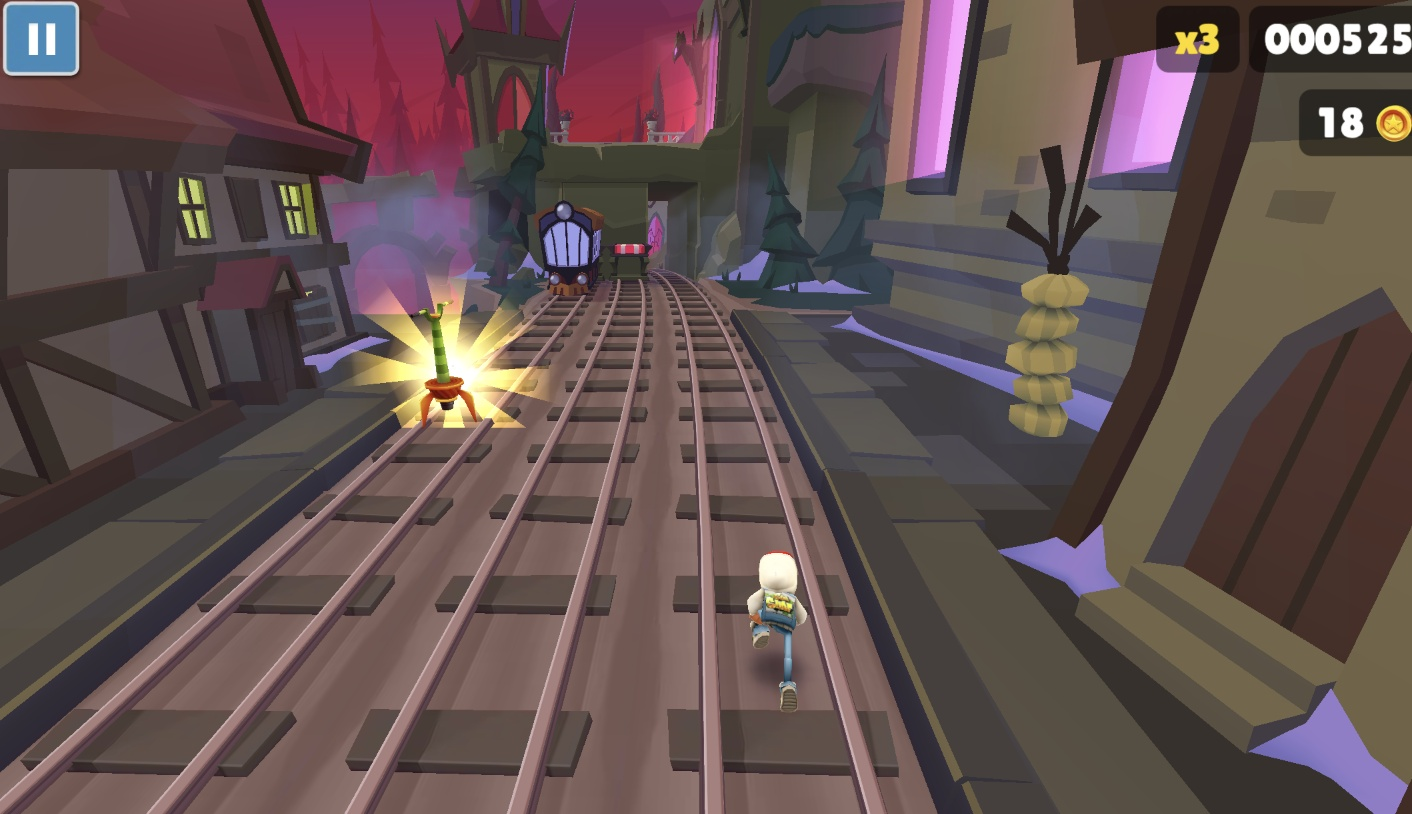ground_barrier: (599, 244, 648, 281)
train: (530, 201, 604, 299)
